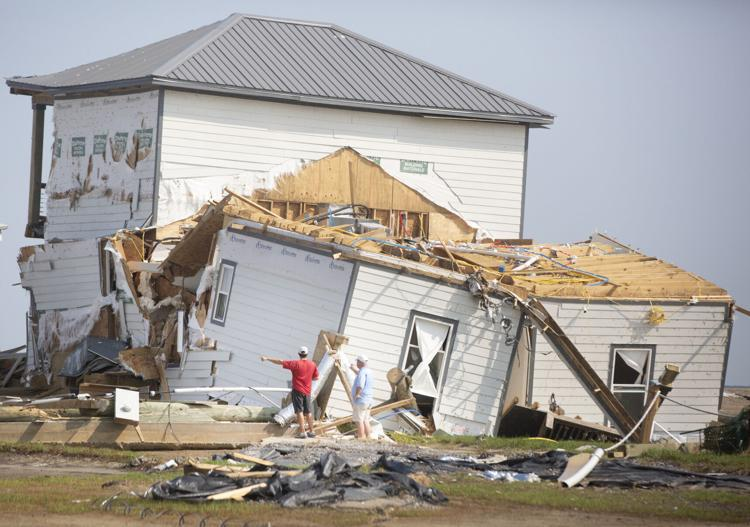destroyed: (15, 41, 742, 461)
